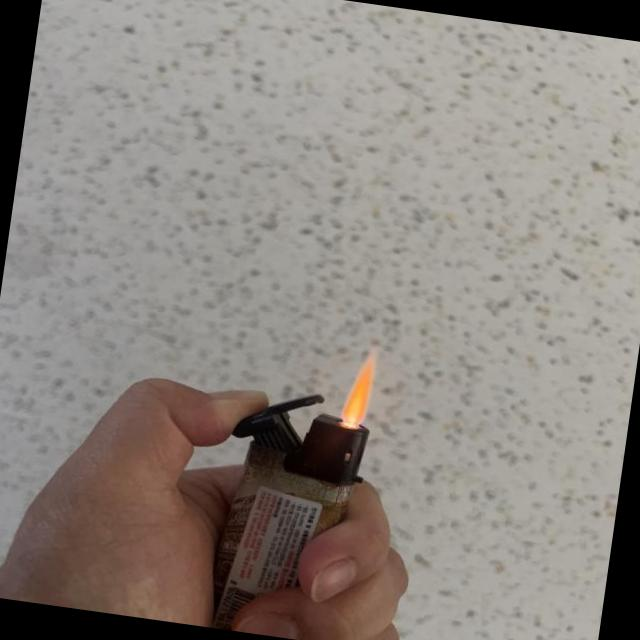Fire: (340, 355, 378, 424)
